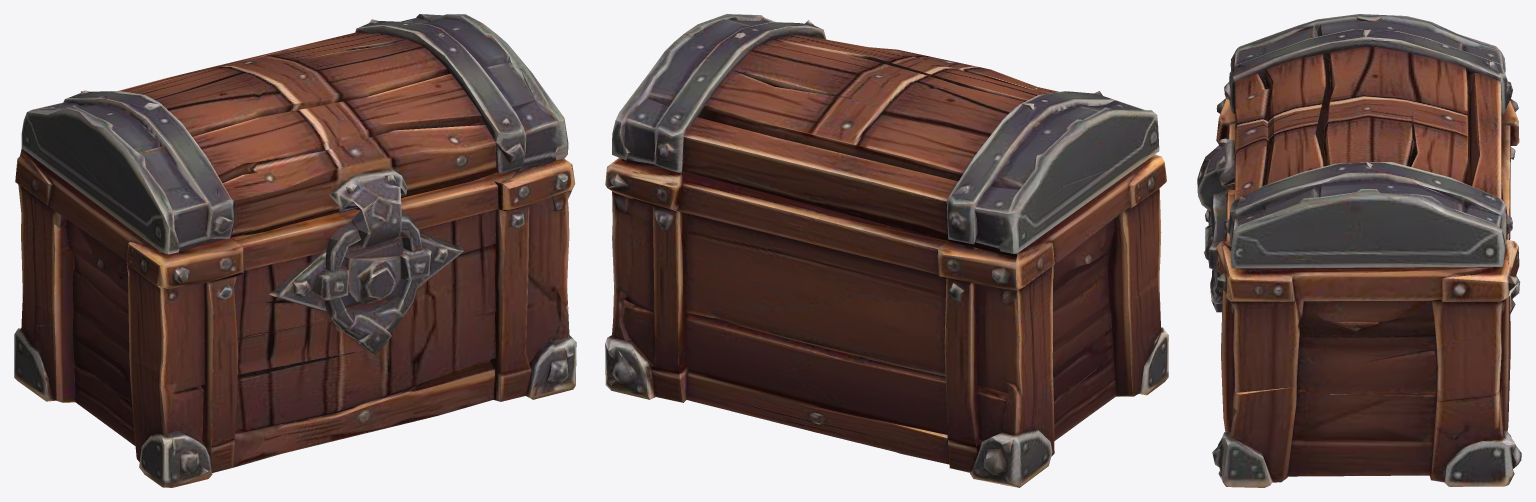
The model's file is prop_chest.glb.
3 views of the same model, side by side, from view 1: azimuth 30°, elevation 25°; view 2: azimuth 150°, elevation 25°; view 3: azimuth 270°, elevation 25° (orthographic). The views are drawn at different scales.
Size of the model in its own units: 1.9 by 1.39 by 1.35.
Materials: 1 (1 with a texture image).
